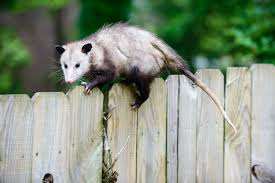opossum: (55, 21, 240, 137)
